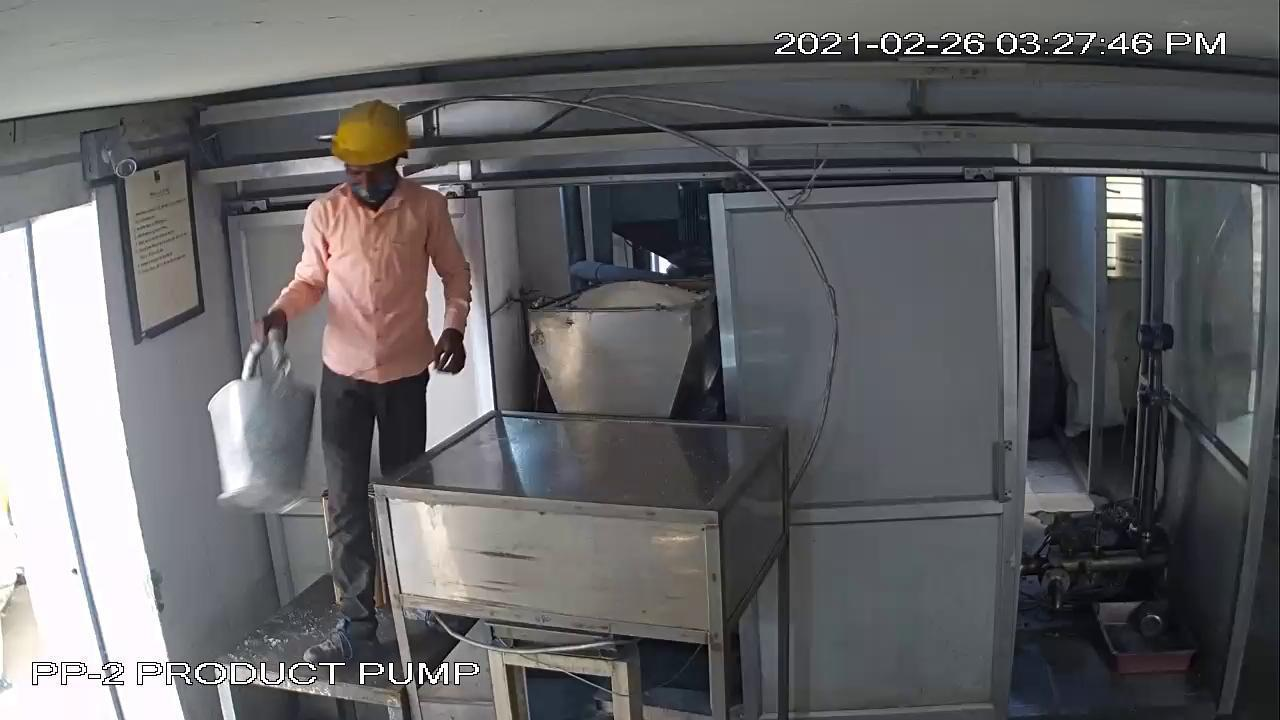helmet: (321, 96, 421, 172)
